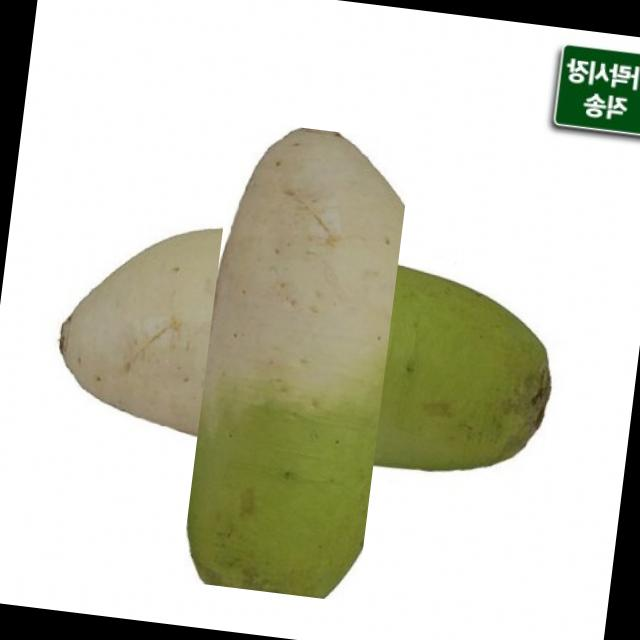radish: (117, 182, 476, 540)
